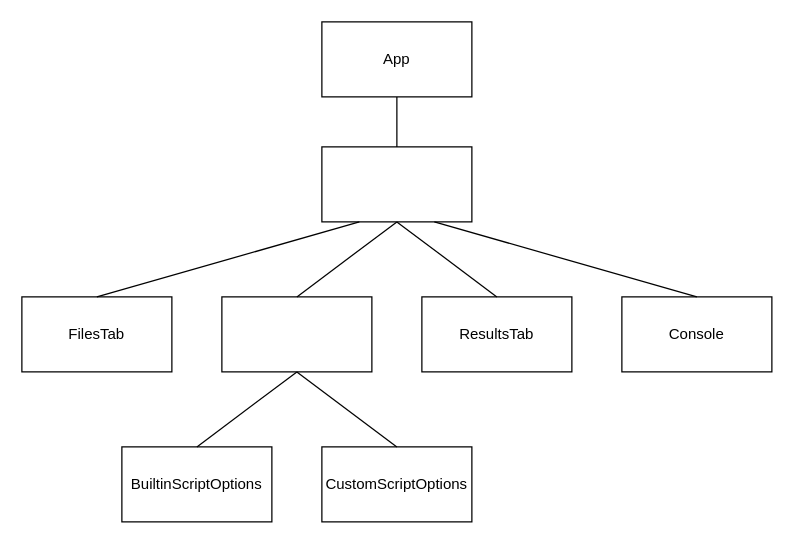
This 794x544 diagram has some shape labels left out. Each missing label, with the box of its shape:
Main: (321, 146, 472, 222)
ScripsTab: (221, 296, 372, 372)
